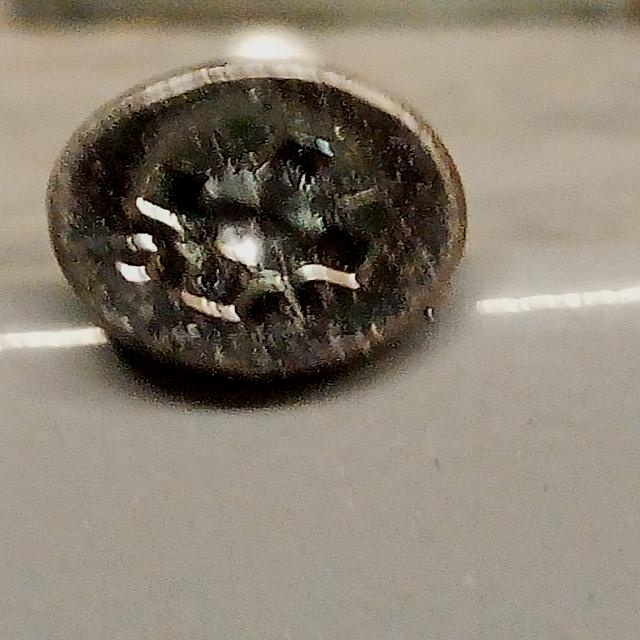pozidriv: (43, 58, 471, 384)
